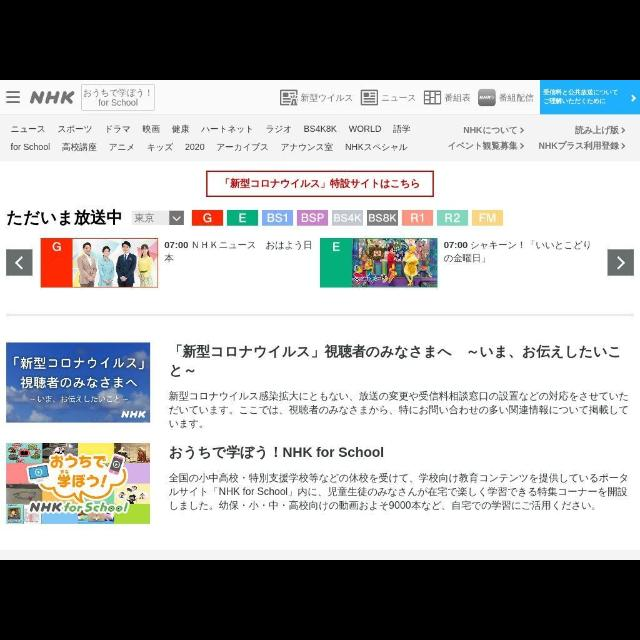button: (7, 250, 33, 276), (608, 250, 632, 276), (170, 212, 183, 224)
icon: (423, 90, 441, 106), (360, 90, 378, 106), (5, 88, 21, 105), (280, 92, 298, 106), (616, 256, 626, 270), (14, 255, 24, 268), (620, 126, 626, 136), (630, 94, 636, 102), (620, 142, 626, 150), (172, 216, 180, 222), (520, 126, 524, 134), (520, 142, 524, 150)
image: (8, 342, 150, 422), (8, 443, 150, 522), (72, 239, 158, 287), (354, 239, 436, 287), (30, 89, 76, 107), (478, 88, 496, 106)
spinner: (134, 212, 184, 225)
text: (168, 389, 632, 428), (170, 474, 628, 511), (170, 343, 620, 379), (442, 241, 592, 265), (164, 240, 312, 262), (226, 176, 422, 192), (170, 446, 384, 460), (6, 210, 122, 227), (82, 85, 152, 108), (544, 87, 618, 105), (346, 140, 408, 154), (539, 141, 619, 151), (280, 142, 334, 154), (301, 92, 354, 104), (462, 125, 518, 136), (448, 142, 518, 150), (574, 124, 620, 136), (201, 124, 253, 134), (498, 92, 536, 104), (217, 144, 271, 152), (347, 122, 381, 134), (380, 93, 416, 103), (61, 142, 97, 152), (333, 212, 363, 224), (8, 142, 52, 150), (368, 212, 396, 224), (445, 92, 471, 104), (303, 125, 337, 134), (10, 126, 46, 134), (146, 141, 174, 151), (58, 126, 92, 134), (266, 212, 288, 224), (477, 212, 498, 224), (106, 124, 130, 134), (110, 142, 134, 152), (266, 125, 292, 134), (142, 124, 162, 134), (170, 124, 190, 134), (391, 123, 411, 133), (134, 212, 154, 222), (302, 212, 322, 222), (184, 143, 206, 151), (410, 213, 426, 223), (202, 212, 214, 224), (444, 214, 462, 222), (238, 212, 248, 224)
textbutton: (206, 170, 434, 196), (540, 81, 640, 113), (82, 85, 154, 111)
